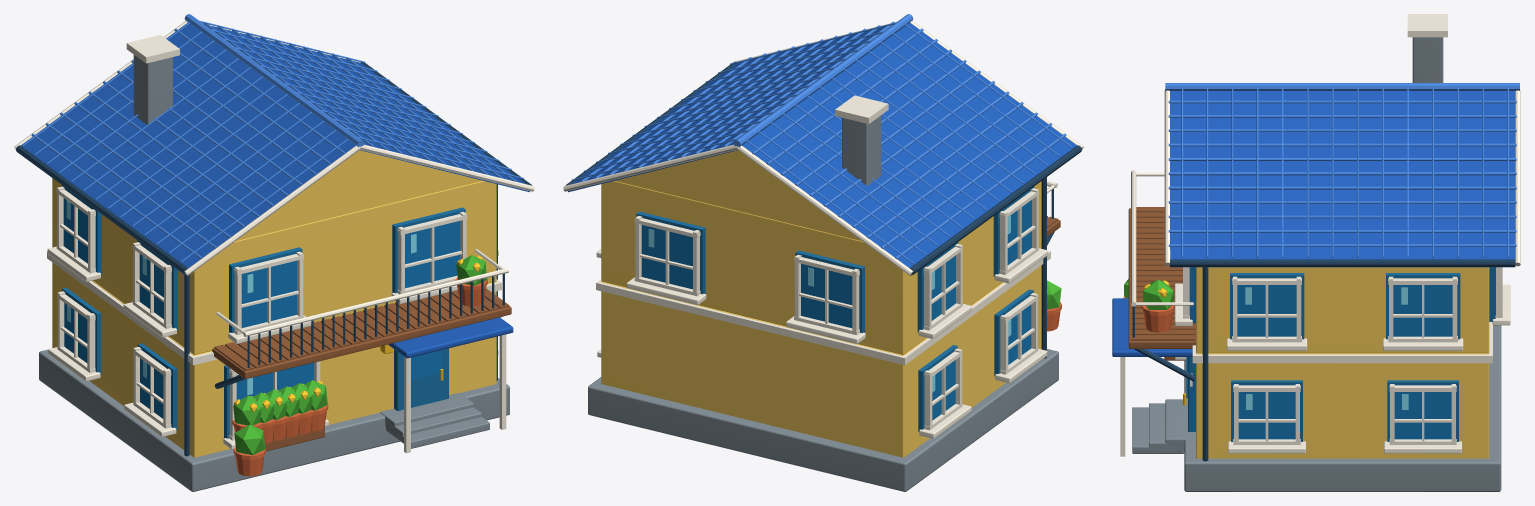
File: house.glb
3 views of the same model, side by side, from view 1: azimuth 30°, elevation 25°; view 2: azimuth 150°, elevation 25°; view 3: azimuth 270°, elevation 25° (orthographic). The views are drawn at different scales.
Parts seen in each view (by area): view 1: House_0_plaster, House_0_roof, House_0_roof_light, House_0_trim, House_0_stone, House_0_glass, House_0_wood, House_0_door, House_0_metal, House_0_leaf_light, House_0_pot, House_0_glass_light; view 2: House_0_plaster, House_0_roof, House_0_roof_light, House_0_trim, House_0_stone, House_0_glass, House_0_door, House_0_metal; view 3: House_0_roof, House_0_plaster, House_0_roof_light, House_0_trim, House_0_stone, House_0_glass, House_0_wood, House_0_metal, House_0_door, House_0_leaf_light, House_0_pot, House_0_glass_light.
Part boxes in pixels (x1=…): House_0_plaster: x1=52, y1=150, x2=496, y2=457; House_0_roof: x1=21, y1=23, x2=529, y2=358; House_0_roof_light: x1=22, y1=14, x2=523, y2=261; House_0_trim: x1=14, y1=21, x2=534, y2=453; House_0_stone: x1=39, y1=55, x2=509, y2=491; House_0_glass: x1=63, y1=198, x2=460, y2=418; House_0_wood: x1=212, y1=288, x2=511, y2=451; House_0_door: x1=61, y1=185, x2=465, y2=438; House_0_metal: x1=16, y1=62, x2=532, y2=456; House_0_leaf_light: x1=233, y1=255, x2=487, y2=455; House_0_pot: x1=232, y1=277, x2=487, y2=476; House_0_glass_light: x1=66, y1=201, x2=416, y2=395; House_0_plaster: x1=601, y1=150, x2=1041, y2=457; House_0_roof: x1=568, y1=23, x2=1076, y2=275; House_0_roof_light: x1=571, y1=14, x2=1072, y2=263; House_0_trim: x1=563, y1=21, x2=1083, y2=438; House_0_stone: x1=588, y1=115, x2=1058, y2=491; House_0_glass: x1=641, y1=200, x2=1031, y2=420; House_0_door: x1=636, y1=186, x2=1034, y2=431; House_0_metal: x1=565, y1=61, x2=1081, y2=358; House_0_roof: x1=1112, y1=91, x2=1515, y2=356; House_0_plaster: x1=1196, y1=267, x2=1489, y2=458; House_0_roof_light: x1=1165, y1=83, x2=1519, y2=257; House_0_trim: x1=1120, y1=14, x2=1520, y2=456; House_0_stone: x1=1132, y1=37, x2=1501, y2=491; House_0_glass: x1=1186, y1=267, x2=1495, y2=439; House_0_wood: x1=1128, y1=207, x2=1195, y2=360; House_0_metal: x1=1132, y1=259, x2=1515, y2=461; House_0_door: x1=1188, y1=267, x2=1495, y2=441; House_0_leaf_light: x1=1124, y1=279, x2=1173, y2=309; House_0_pot: x1=1123, y1=296, x2=1174, y2=332; House_0_glass_light: x1=1245, y1=287, x2=1408, y2=409.
Bounding box in the file's own units: 8.77 × 8.17 × 8.64.
